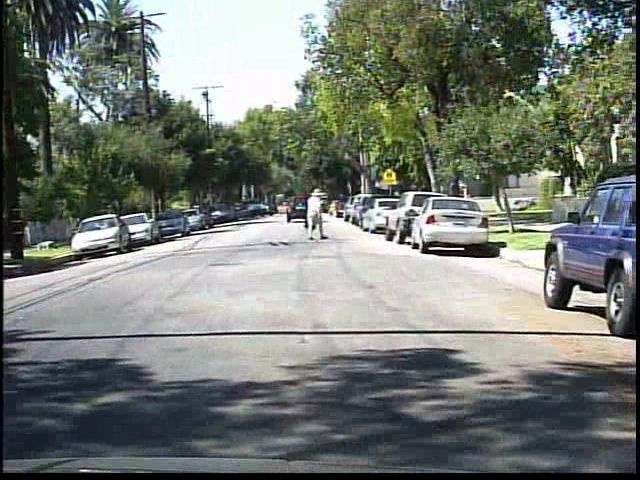person: (300, 186, 332, 242)
